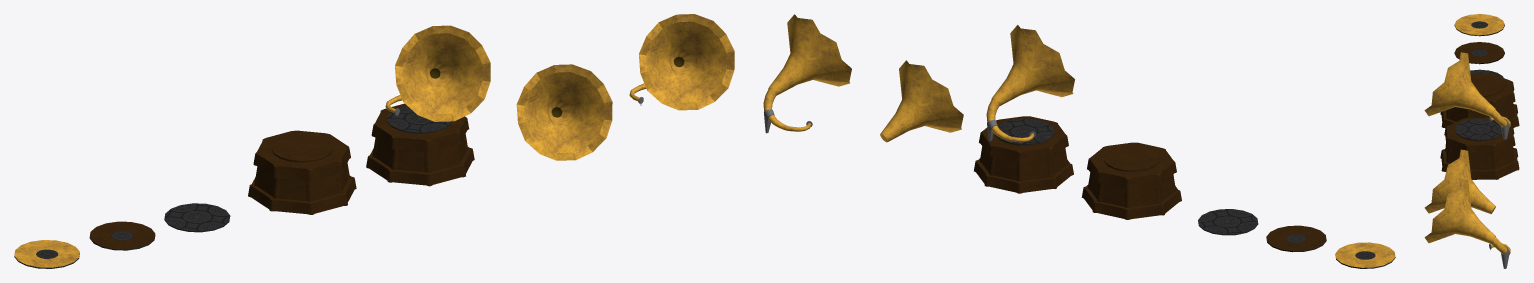
File: gramophone.fbx
The picture shows the model from 3 angles, left to right: view 1: azimuth 30°, elevation 25°; view 2: azimuth 150°, elevation 25°; view 3: azimuth 270°, elevation 25°; orthographic projection. The views are drawn at different scales.
Visible parts, largest first — view 1: Gramophone, GramophoneHead_2, Gramophone_1, Box, MusicDisc, MusicDisc_2, MusicDisc_3; view 2: Gramophone, Box, GramophoneHead_2, Gramophone_1, MusicDisc_3, MusicDisc, MusicDisc_2; view 3: Gramophone, GramophoneHead_2, Box, Gramophone_1, MusicDisc_3, MusicDisc_2, MusicDisc.
Boxes of the visible parts, x1,y1,x2,y2 form: Gramophone: [366, 25, 490, 186]; GramophoneHead_2: [629, 14, 734, 110]; Gramophone_1: [516, 64, 612, 160]; Box: [248, 130, 356, 214]; MusicDisc: [164, 203, 230, 232]; MusicDisc_2: [89, 221, 155, 250]; MusicDisc_3: [14, 240, 79, 268]; Gramophone: [974, 25, 1074, 193]; Box: [1081, 142, 1181, 219]; GramophoneHead_2: [763, 14, 851, 133]; Gramophone_1: [880, 60, 963, 142]; MusicDisc_3: [1335, 242, 1395, 268]; MusicDisc: [1198, 209, 1258, 235]; MusicDisc_2: [1266, 225, 1326, 252]; Gramophone: [1424, 52, 1519, 179]; GramophoneHead_2: [1424, 179, 1510, 268]; Box: [1440, 73, 1519, 128]; Gramophone_1: [1424, 149, 1495, 213]; MusicDisc_3: [1454, 14, 1504, 36]; MusicDisc_2: [1454, 42, 1504, 64]; MusicDisc: [1470, 69, 1503, 77].
Bounding box in the file's own units: 2.86 × 0.6196 × 0.4519.
